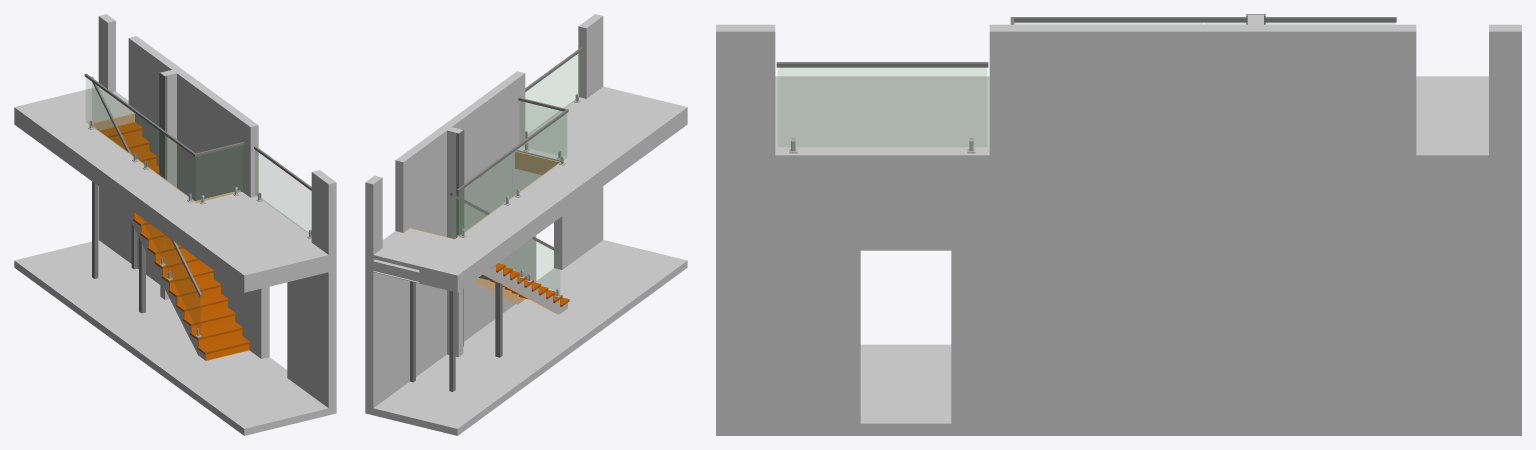
The model's file is Устройство лестницы на косоурах плюс стекла.obj.
3 views of the same model, side by side, from view 1: azimuth 30°, elevation 25°; view 2: azimuth 150°, elevation 25°; view 3: azimuth 270°, elevation 25° (orthographic). The views are drawn at different scales.
Size of the model in its own units: 2.06 by 4.91 by 8.86.
